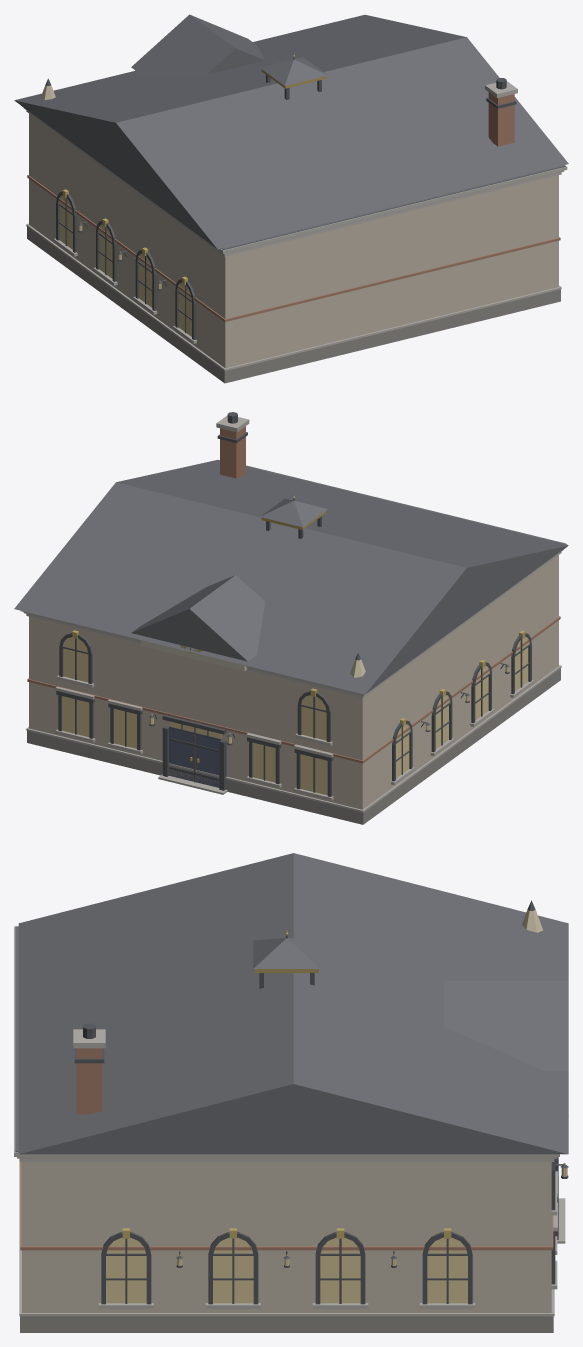
Rendered from centro-escola-e47aca52.glb.
3 renders of one model, top to bottom at view 1: azimuth 30°, elevation 25°; view 2: azimuth 150°, elevation 25°; view 3: azimuth 270°, elevation 25°, orthographic. The views are drawn at different scales.
Parts seen in each view (by area): view 1: centro_escola_body, centro_escola_wall, centro_escola_lamp; view 2: centro_escola_body, centro_escola_wall, centro_escola_lamp; view 3: centro_escola_body, centro_escola_wall, centro_escola_lamp.
Part boxes in pixels (x1,y1,x2,y2): centro_escola_body: (14,14,568,371); centro_escola_wall: (27,92,560,383); centro_escola_lamp: (59,195,191,336); centro_escola_body: (14,412,568,812); centro_escola_wall: (27,426,560,824); centro_escola_lamp: (62,637,528,795); centro_escola_body: (14,853,568,1316); centro_escola_wall: (20,1048,553,1332); centro_escola_lamp: (106,1168,567,1303).
Size of the model in its own units: 16.21 by 9.63 by 16.45.
